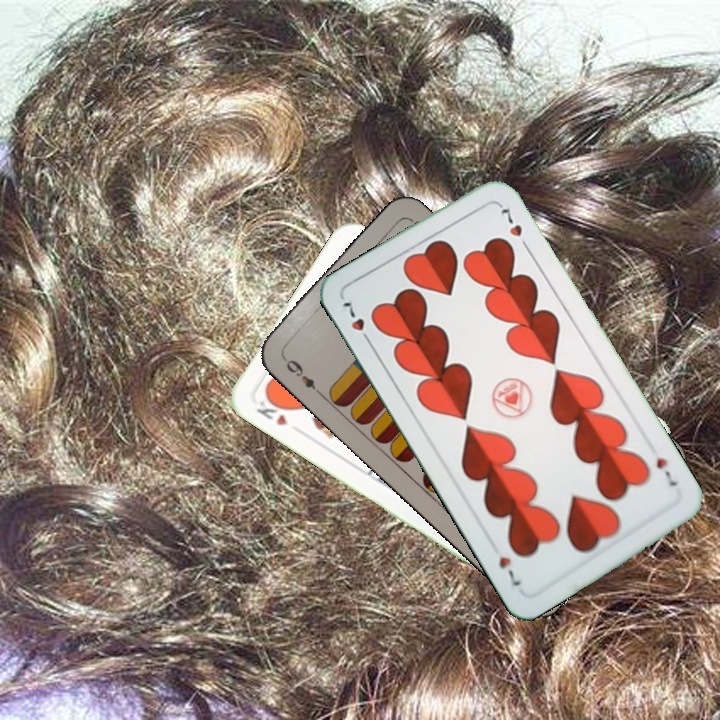E9: (278, 353, 325, 399)
H7: (338, 294, 375, 348), (652, 453, 680, 489)
HK: (252, 392, 292, 429)
